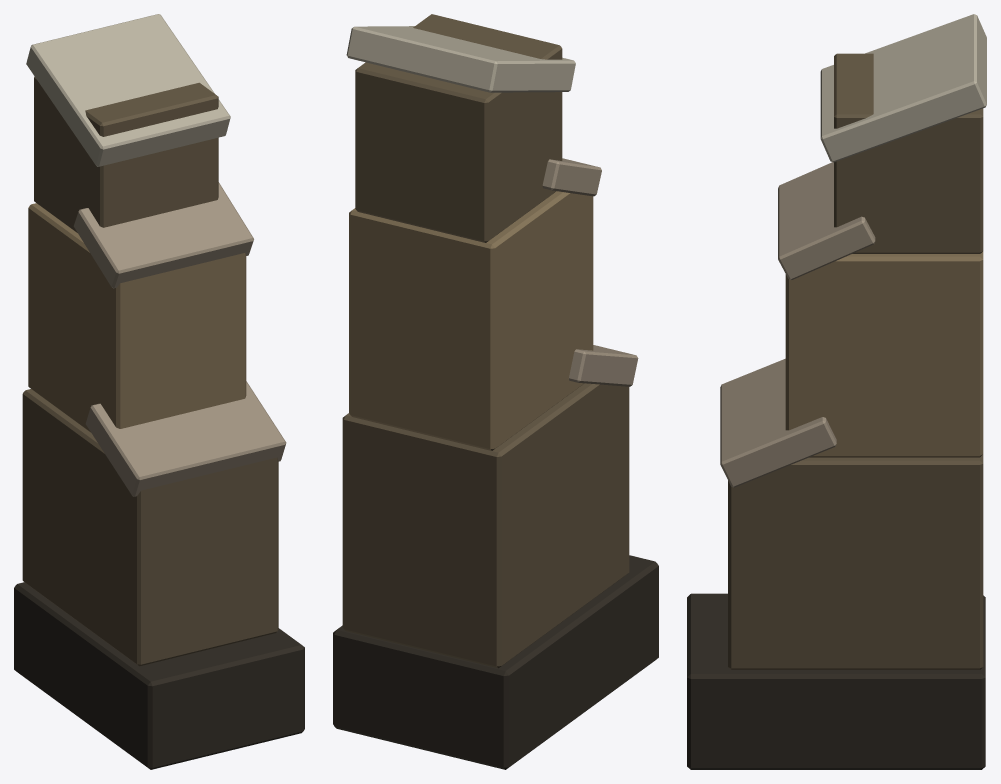
Rendered from mod_exterior_buttress_3m.glb.
3 renders of one model, left to right at view 1: azimuth 30°, elevation 25°; view 2: azimuth 150°, elevation 25°; view 3: azimuth 270°, elevation 25°, orthographic. The views are drawn at different scales.
Visible parts, largest first — view 1: Mod_Exterior_Buttress_3m; view 2: Mod_Exterior_Buttress_3m; view 3: Mod_Exterior_Buttress_3m.
Part boxes in pixels (bbox=[...]): Mod_Exterior_Buttress_3m: bbox=[14, 14, 304, 769]; Mod_Exterior_Buttress_3m: bbox=[333, 14, 658, 769]; Mod_Exterior_Buttress_3m: bbox=[687, 14, 986, 769].
Size of the model in its own units: 0.82 by 3.13 by 1.25.
